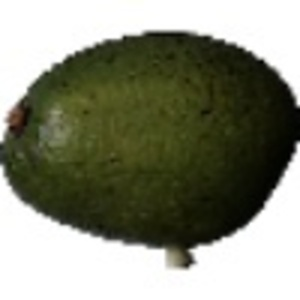abacate: (1, 28, 297, 246)
